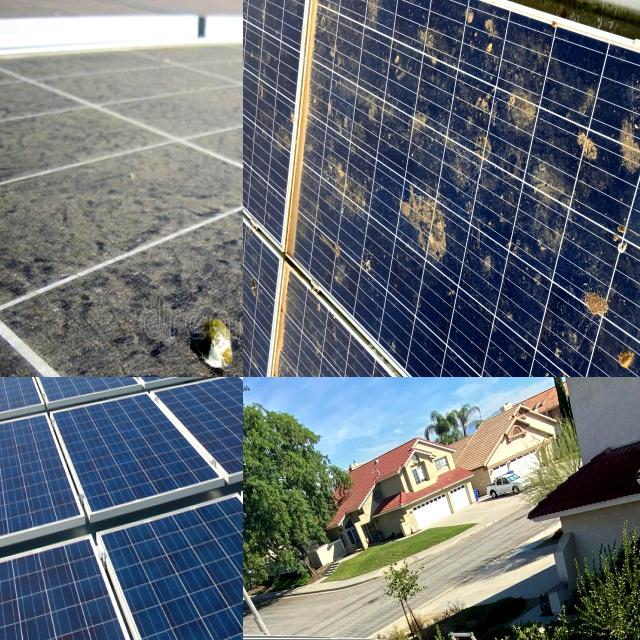bird: (415, 174, 503, 300), (532, 142, 625, 226), (552, 244, 612, 362), (173, 312, 243, 377), (270, 307, 343, 368), (494, 320, 566, 377)
crack: (23, 377, 221, 536), (64, 495, 243, 640), (0, 523, 171, 640), (0, 393, 86, 581), (0, 424, 101, 564), (0, 377, 78, 444)
